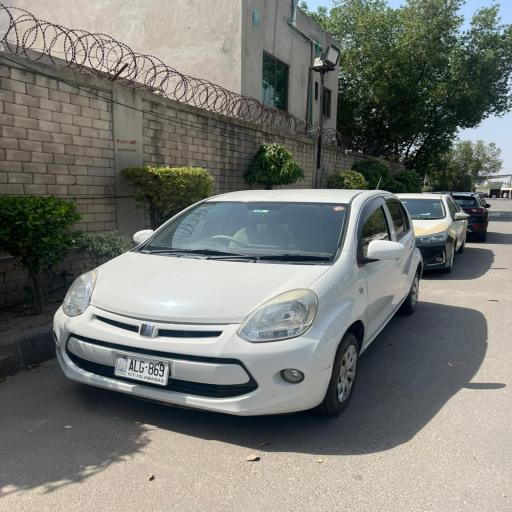number_plate: (114, 351, 172, 387)
